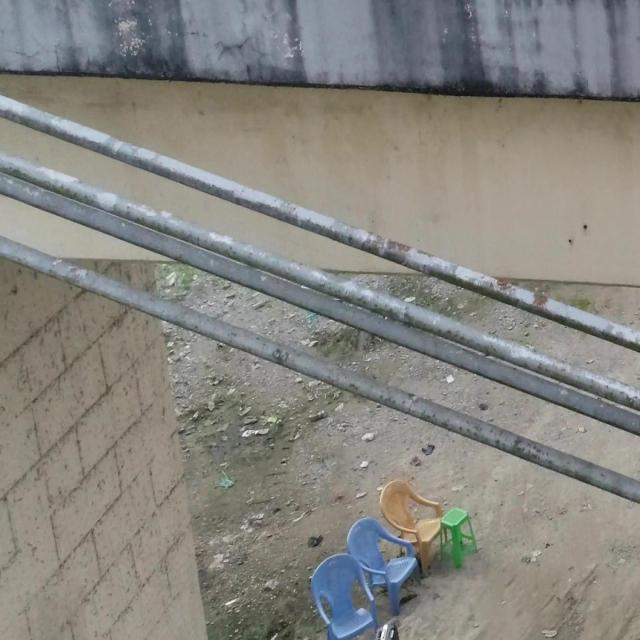corrosion: (387, 241, 412, 263), (368, 233, 384, 256), (532, 294, 546, 312), (497, 278, 510, 296)
